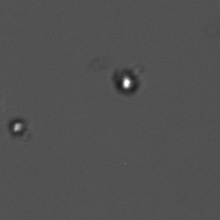Living Cell: (109, 67, 143, 95), (7, 113, 29, 141)
